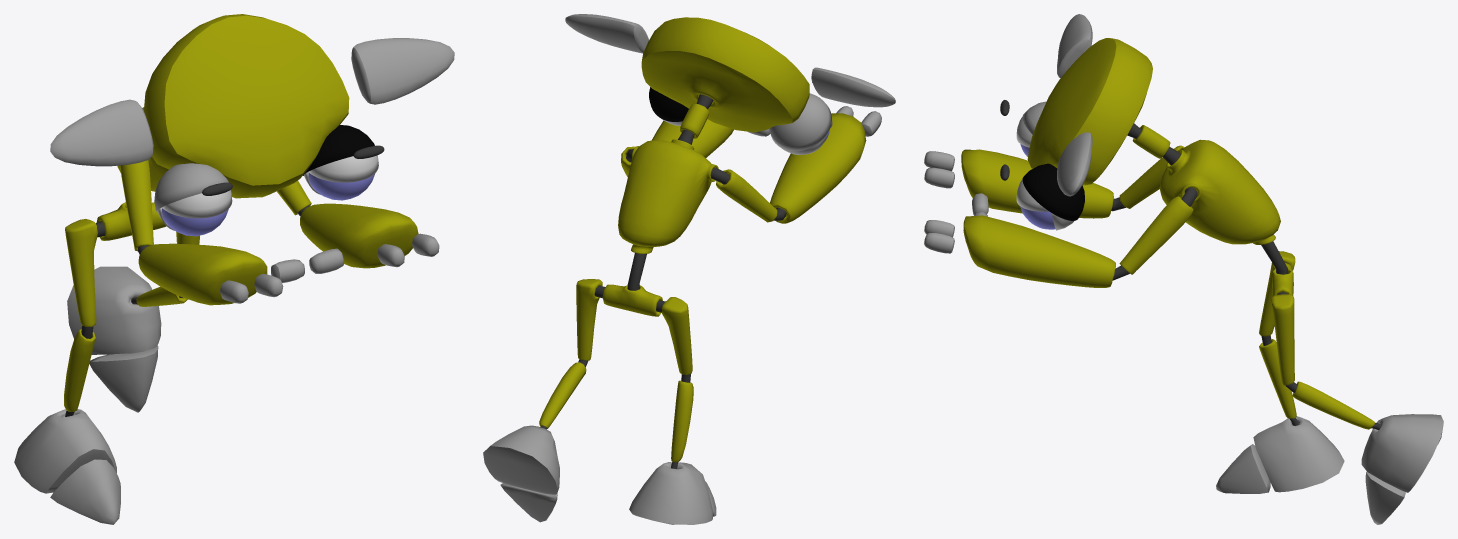
File: push6.obj
3 views of the same model, side by side, from view 1: azimuth 30°, elevation 25°; view 2: azimuth 150°, elevation 25°; view 3: azimuth 270°, elevation 25° (orthographic). The views are drawn at different scales.
Visible parts, largest first — view 1: Mesh polySurface50, Mesh polySurface37, Mesh polySurface10, Mesh polySurface18, Mesh polySurface47, Mesh polySurface44, Mesh polySurface26, Mesh polySurface48, Mesh polySurface24, Mesh polySurface28, Mesh polySurface8, Mesh polySurface38 (+18 smaller); view 2: Mesh polySurface41, Mesh polySurface49, Mesh polySurface48, Mesh polySurface37, Mesh polySurface26, Mesh polySurface9, Mesh polySurface21, Mesh polySurface45, Mesh polySurface10, Mesh polySurface42, Mesh polySurface12, Mesh polySurface28 (+8 smaller); view 3: Mesh polySurface41, Mesh polySurface18, Mesh polySurface50, Mesh polySurface48, Mesh polySurface26, Mesh polySurface10, Mesh polySurface37, Mesh polySurface51, Mesh polySurface4, Mesh polySurface12, Mesh polySurface24, Mesh polySurface44 (+7 smaller).
Part boxes in pixels (x1=…): Mesh polySurface50: x1=164, y1=15, x2=349, y2=185; Mesh polySurface37: x1=138, y1=243, x2=267, y2=305; Mesh polySurface10: x1=67, y1=266, x2=161, y2=354; Mesh polySurface18: x1=300, y1=203, x2=418, y2=268; Mesh polySurface47: x1=50, y1=99, x2=152, y2=166; Mesh polySurface44: x1=353, y1=38, x2=454, y2=104; Mesh polySurface26: x1=14, y1=409, x2=116, y2=493; Mesh polySurface48: x1=144, y1=14, x2=348, y2=198; Mesh polySurface24: x1=50, y1=459, x2=120, y2=524; Mesh polySurface28: x1=65, y1=219, x2=97, y2=326; Mesh polySurface8: x1=89, y1=347, x2=158, y2=412; Mesh polySurface38: x1=120, y1=160, x2=153, y2=251; Mesh polySurface41: x1=618, y1=139, x2=718, y2=253; Mesh polySurface49: x1=641, y1=51, x2=792, y2=132; Mesh polySurface48: x1=641, y1=17, x2=809, y2=122; Mesh polySurface37: x1=770, y1=113, x2=866, y2=223; Mesh polySurface26: x1=629, y1=462, x2=712, y2=524; Mesh polySurface9: x1=483, y1=446, x2=557, y2=495; Mesh polySurface21: x1=769, y1=93, x2=831, y2=151; Mesh polySurface45: x1=812, y1=69, x2=895, y2=107; Mesh polySurface10: x1=490, y1=425, x2=559, y2=492; Mesh polySurface42: x1=565, y1=16, x2=642, y2=53; Mesh polySurface12: x1=576, y1=279, x2=602, y2=360; Mesh polySurface28: x1=661, y1=297, x2=692, y2=374; Mesh polySurface41: x1=1159, y1=139, x2=1280, y2=244; Mesh polySurface18: x1=963, y1=215, x2=1115, y2=287; Mesh polySurface50: x1=1027, y1=38, x2=1116, y2=167; Mesh polySurface48: x1=1031, y1=38, x2=1152, y2=185; Mesh polySurface26: x1=1253, y1=416, x2=1344, y2=492; Mesh polySurface10: x1=1361, y1=414, x2=1443, y2=492; Mesh polySurface37: x1=961, y1=149, x2=1113, y2=218; Mesh polySurface51: x1=1119, y1=196, x2=1193, y2=274; Mesh polySurface4: x1=1022, y1=163, x2=1084, y2=220; Mesh polySurface12: x1=1271, y1=294, x2=1294, y2=385; Mesh polySurface24: x1=1216, y1=445, x2=1268, y2=493; Mesh polySurface44: x1=1057, y1=132, x2=1090, y2=195.
Bounding box in the file's own units: 10.05 × 12.72 × 12.79.
